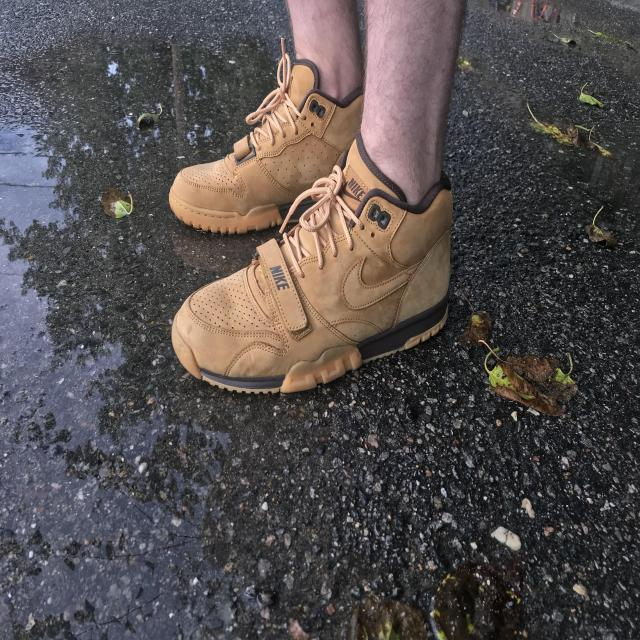shoe: (166, 131, 464, 410), (165, 32, 368, 238)
